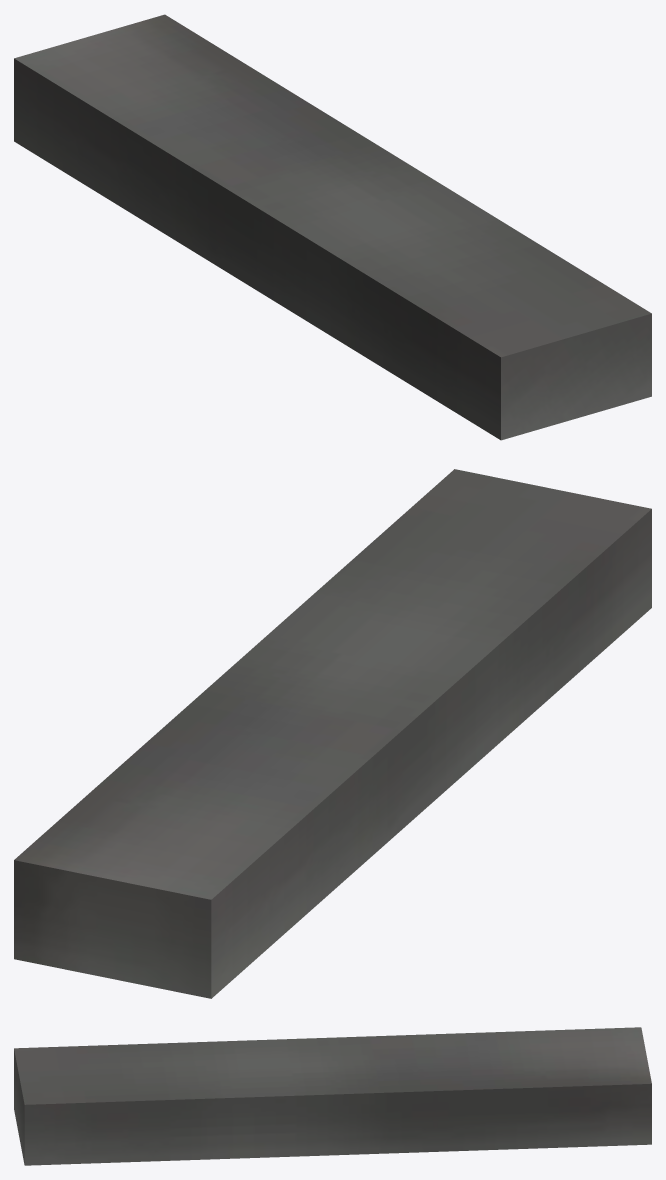
File: pump_body__gauge_tick_1.glb
3 views of the same model, one above another, from view 1: azimuth 30°, elevation 25°; view 2: azimuth 150°, elevation 25°; view 3: azimuth 270°, elevation 25° (orthographic). The views are drawn at different scales.
Parts seen in each view (by area): view 1: geometry_0; view 2: geometry_0; view 3: geometry_0.
Boxes of the visible parts, x1,y1,x2,y2 form: geometry_0: [14, 14, 651, 440]; geometry_0: [14, 469, 651, 998]; geometry_0: [14, 1027, 651, 1165].
Bounding box in the file's own units: 0.00438 × 0.0016 × 0.0152.
Materials: 1 (1 with a texture image).
